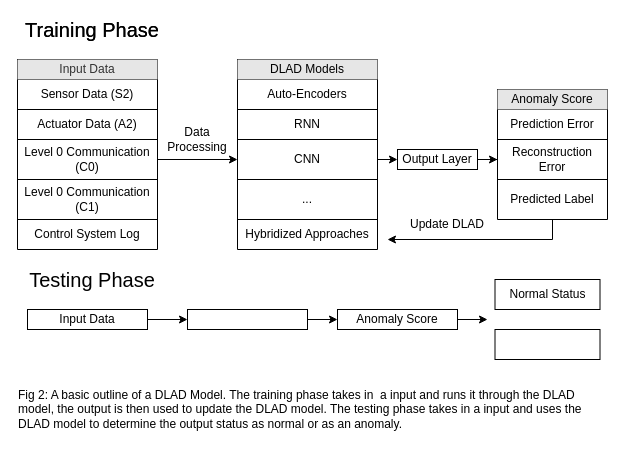
Image size: 625x456. Some labels were removed from this diagram. Here are the shapes that lost their labels. From the top down, the box of each, then its label:
(186, 308, 308, 330): Trained Models
(494, 328, 600, 360): Anomaly
